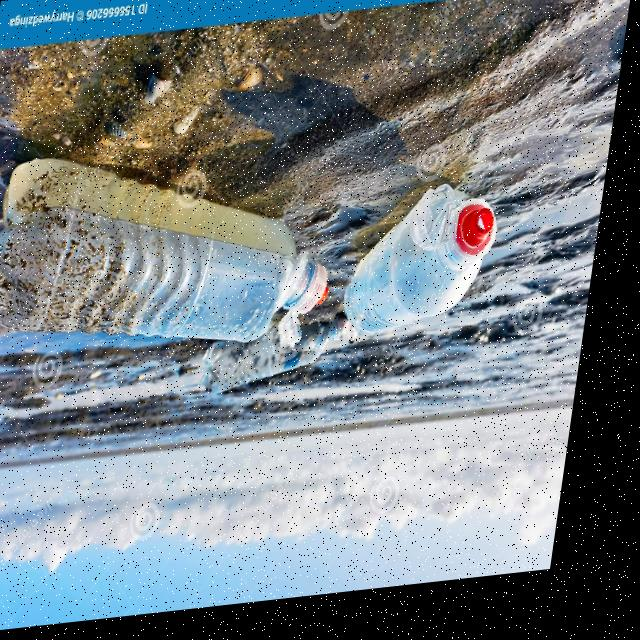plasticbottlecap: (277, 255, 364, 362), (461, 204, 520, 269)
